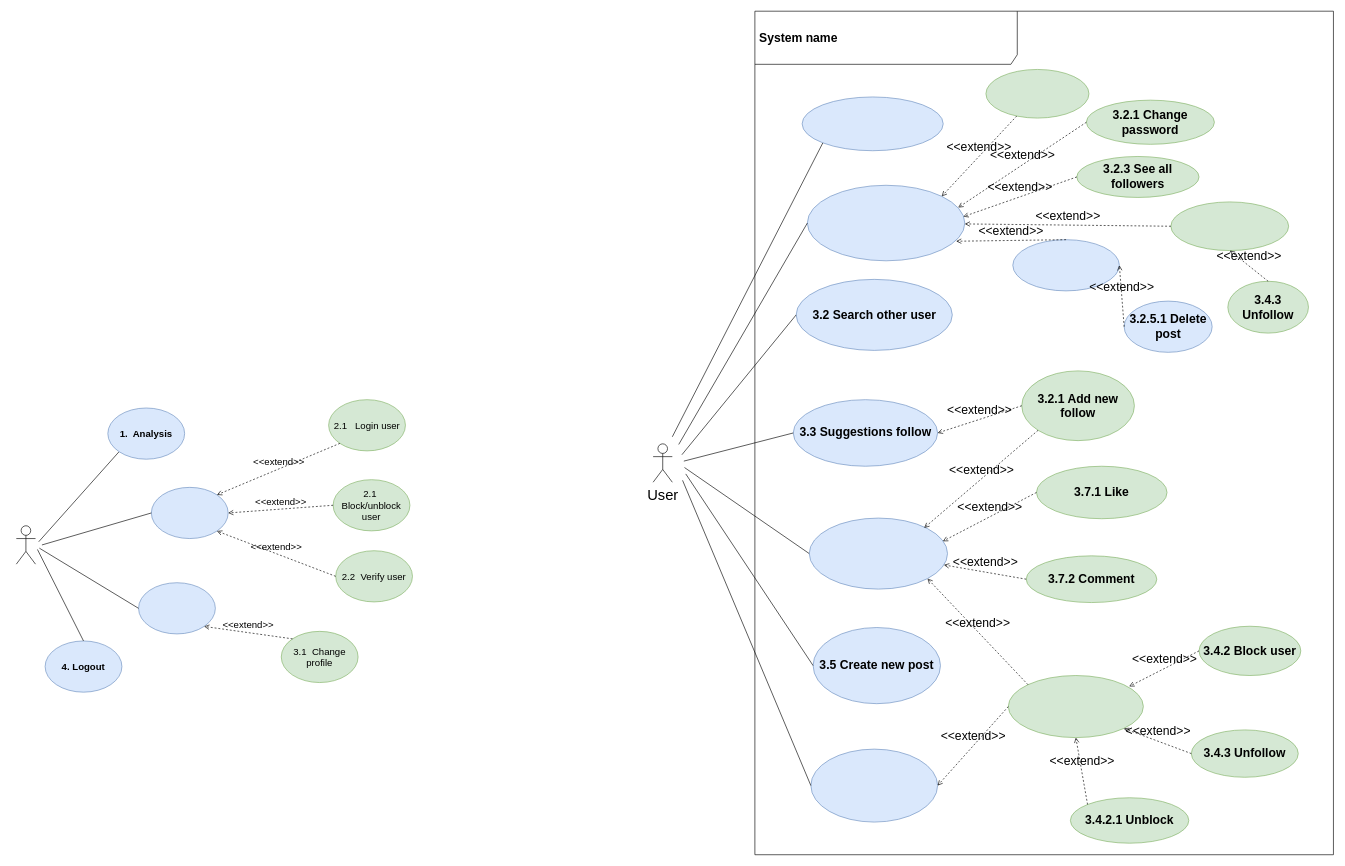
This 1345x866 diagram has some shape labels left out. The shapes that lost their labels are listed below. From the top down, each one's centre as x and y in pixels, then its label:
the point at 1037,93: 3.2.2 Change information user
the point at 872,123: 3.1 Logout
the point at 886,223: 3.2 Manage Profile
the point at 1229,226: 3.2.4 See all following
the point at 1065,265: 3.2.5 Manage Post
the point at 189,513: 2. Manage user
the point at 26,544: Admin
the point at 878,553: 3.4 Viewing wall
the point at 176,608: 3. Manage profile
the point at 1075,706: 3.4.1 Viewing profile
the point at 874,785: 3.6 Messenger
